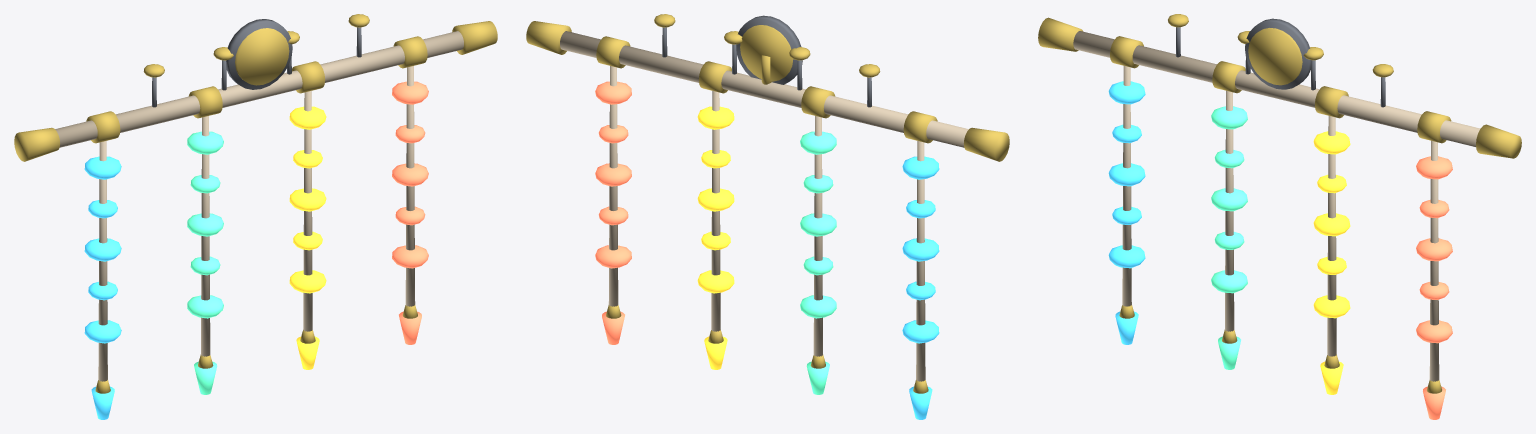
File: khipu-tracker.glb
The picture shows the model from 3 angles, left to right: view 1: azimuth 30°, elevation 25°; view 2: azimuth 150°, elevation 25°; view 3: azimuth 330°, elevation 25°; orthographic projection.
Parts seen in each view (by area): view 1: Khipu_Main_Cord, Inti_Core_Medallion, Cord_03_Energy, Cord_01_Water, Cord_04_Radiation, Cord_02_Oxygen, Inti_Core_Ring, Main_Cord_Cap_Left, Main_Cord_Cap_Right, Hitch_Ring_02_Oxygen, Hitch_Ring_04_Radiation, Hitch_Ring_01_Water (+17 smaller); view 2: Khipu_Main_Cord, Inti_Core_Medallion, Cord_03_Energy, Cord_01_Water, Cord_04_Radiation, Cord_02_Oxygen, Main_Cord_Cap_Left, Inti_Core_Ring, Main_Cord_Cap_Right, Hitch_Ring_02_Oxygen, Hitch_Ring_04_Radiation, Hitch_Ring_01_Water (+17 smaller); view 3: Khipu_Main_Cord, Inti_Core_Medallion, Cord_03_Energy, Cord_01_Water, Cord_04_Radiation, Cord_02_Oxygen, Inti_Core_Ring, Main_Cord_Cap_Right, Main_Cord_Cap_Left, Hitch_Ring_04_Radiation, Hitch_Ring_01_Water, Hitch_Ring_03_Energy (+17 smaller).
Boxes of the visible parts, left/top/right/bottom form: Khipu_Main_Cord: left=55, top=31, right=463, bottom=147; Inti_Core_Medallion: left=235, top=28, right=289, bottom=85; Cord_03_Energy: left=303, top=91, right=312, bottom=331; Cord_01_Water: left=98, top=141, right=107, bottom=381; Cord_04_Radiation: left=405, top=66, right=415, bottom=306; Cord_02_Oxygen: left=201, top=116, right=210, bottom=356; Inti_Core_Ring: left=226, top=19, right=292, bottom=89; Main_Cord_Cap_Left: left=14, top=127, right=60, bottom=161; Main_Cord_Cap_Right: left=452, top=21, right=497, bottom=54; Hitch_Ring_02_Oxygen: left=188, top=86, right=222, bottom=118; Hitch_Ring_04_Radiation: left=393, top=36, right=427, bottom=68; Hitch_Ring_01_Water: left=86, top=111, right=120, bottom=143; Khipu_Main_Cord: left=560, top=31, right=968, bottom=147; Inti_Core_Medallion: left=740, top=25, right=793, bottom=81; Cord_03_Energy: left=711, top=91, right=720, bottom=331; Cord_01_Water: left=916, top=141, right=925, bottom=381; Cord_04_Radiation: left=608, top=66, right=618, bottom=306; Cord_02_Oxygen: left=813, top=116, right=822, bottom=356; Main_Cord_Cap_Left: left=963, top=127, right=1009, bottom=161; Inti_Core_Ring: left=736, top=15, right=802, bottom=84; Main_Cord_Cap_Right: left=526, top=21, right=571, bottom=54; Hitch_Ring_02_Oxygen: left=801, top=86, right=835, bottom=118; Hitch_Ring_04_Radiation: left=596, top=36, right=630, bottom=68; Hitch_Ring_01_Water: left=903, top=111, right=937, bottom=143; Khipu_Main_Cord: left=1073, top=31, right=1480, bottom=146; Inti_Core_Medallion: left=1248, top=28, right=1302, bottom=85; Cord_03_Energy: left=1327, top=116, right=1336, bottom=356; Cord_01_Water: left=1122, top=66, right=1131, bottom=306; Cord_04_Radiation: left=1429, top=140, right=1439, bottom=381; Cord_02_Oxygen: left=1224, top=90, right=1234, bottom=331; Inti_Core_Ring: left=1245, top=18, right=1311, bottom=89; Main_Cord_Cap_Right: left=1476, top=124, right=1521, bottom=158; Main_Cord_Cap_Left: left=1038, top=17, right=1082, bottom=51; Hitch_Ring_04_Radiation: left=1417, top=111, right=1451, bottom=143; Hitch_Ring_01_Water: left=1110, top=36, right=1143, bottom=68; Hitch_Ring_03_Energy: left=1315, top=86, right=1348, bottom=118.
Bounding box in the file's own units: 5.05 × 3.7 × 0.351.
